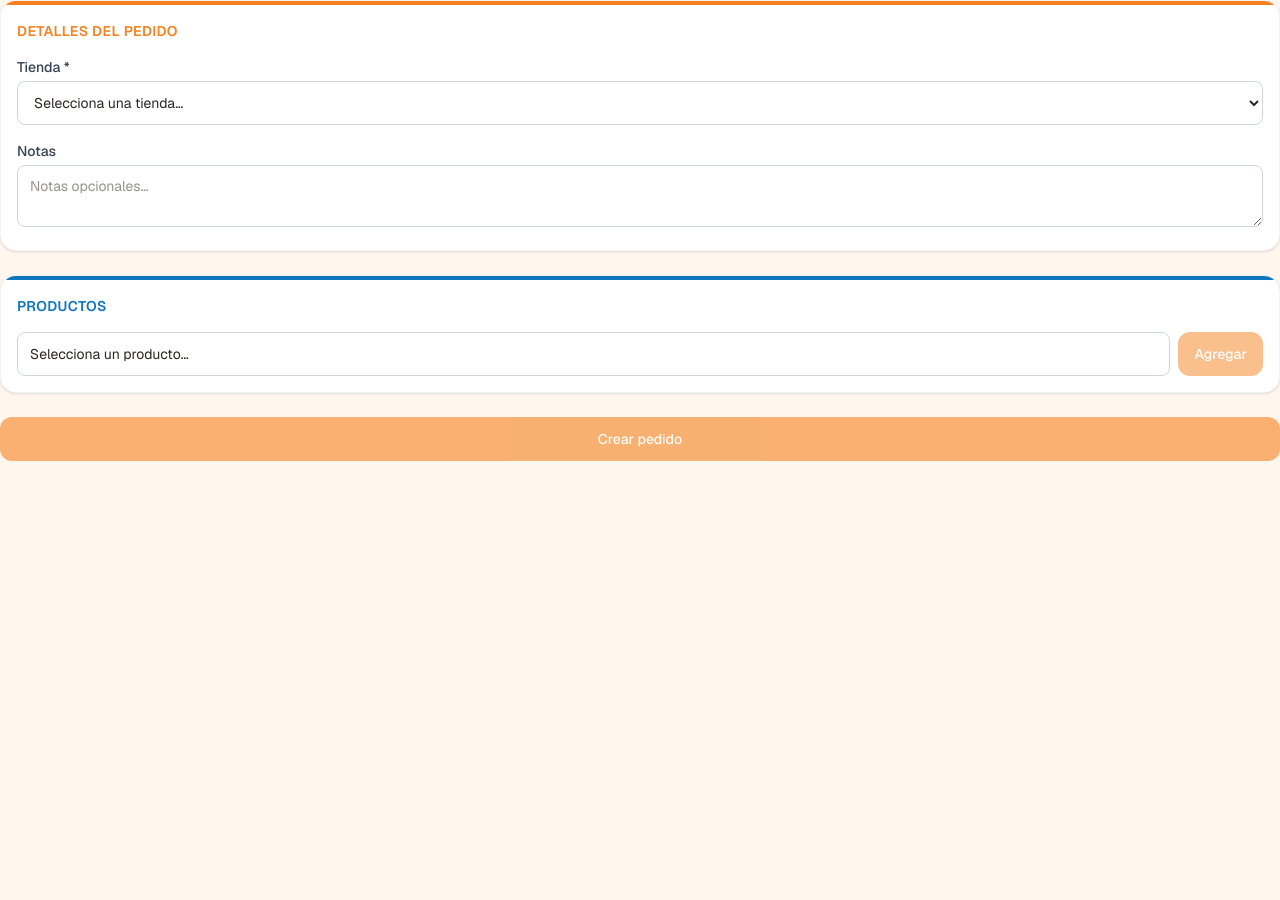
Test: OrderBuilder — add item › submit button is enabled after adding an item
The width and height of the screenshot is (1280, 900).
Click the button with aria-label "agregar producto".
click(109, 354)  # box x1=17 y1=332 x2=1170 y2=376
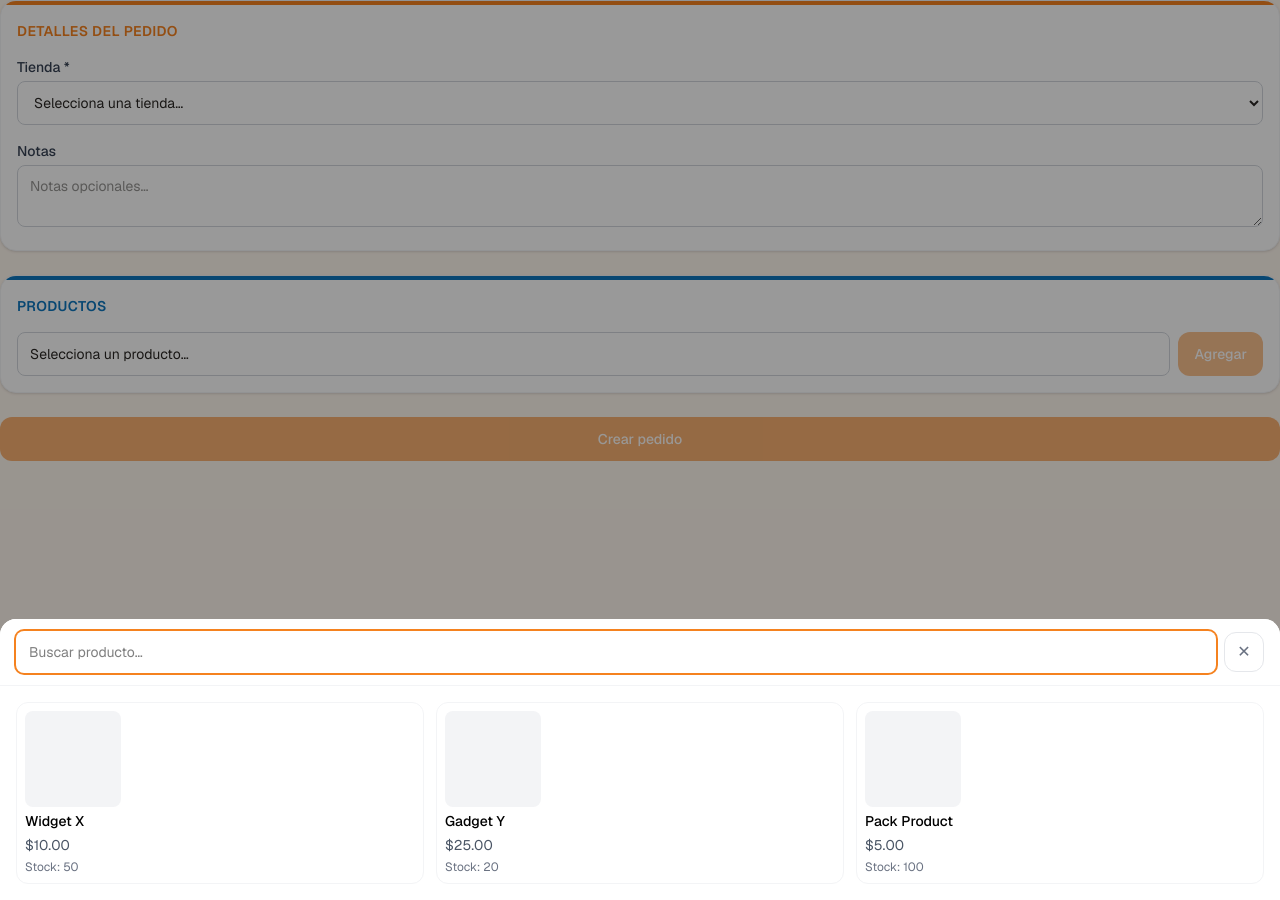
Click the button "Widget X $10.00 Stock: 50".
click(73, 759)  # box x1=16 y1=702 x2=424 y2=884
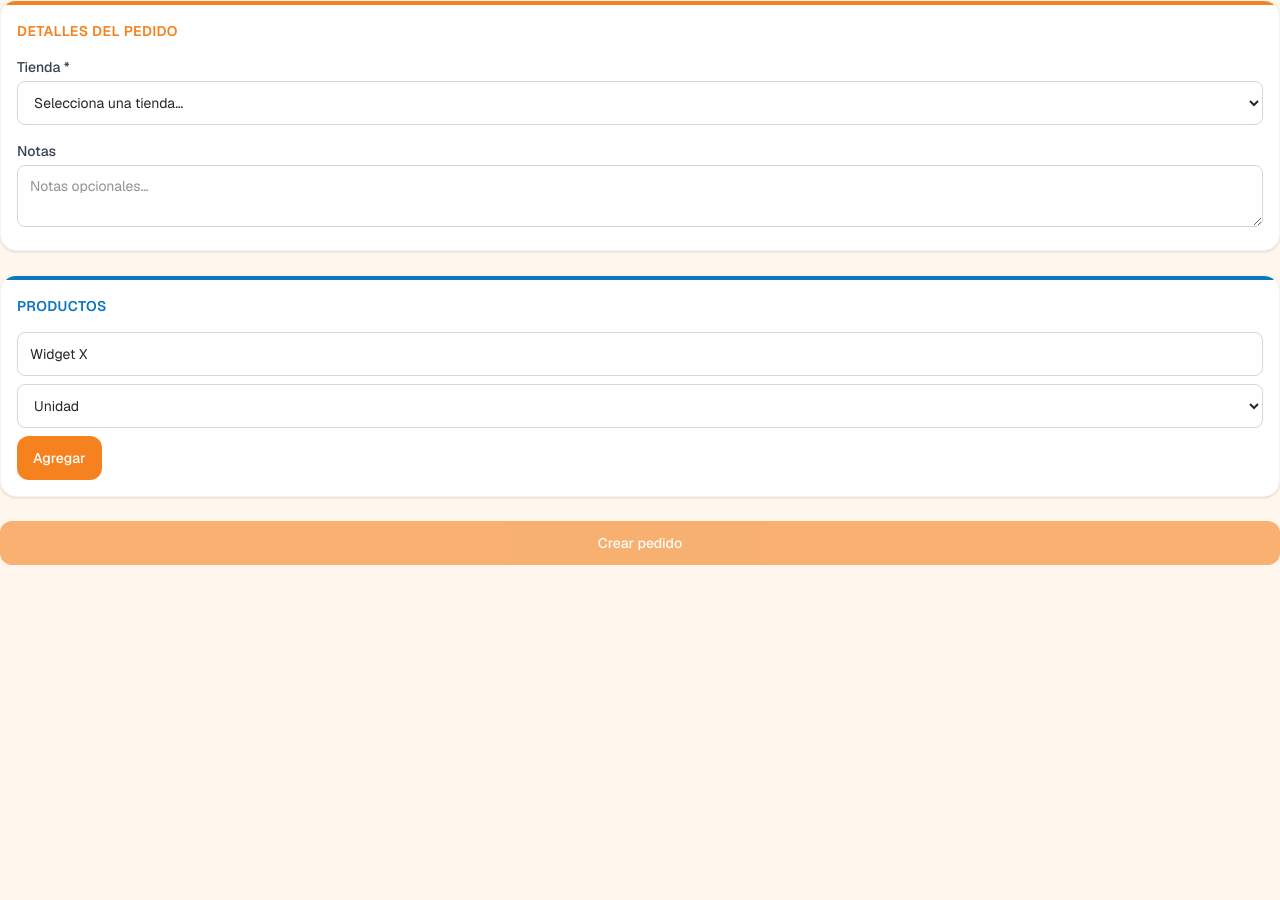
Click the button "Agregar".
click(59, 458)  # box x1=17 y1=436 x2=102 y2=480
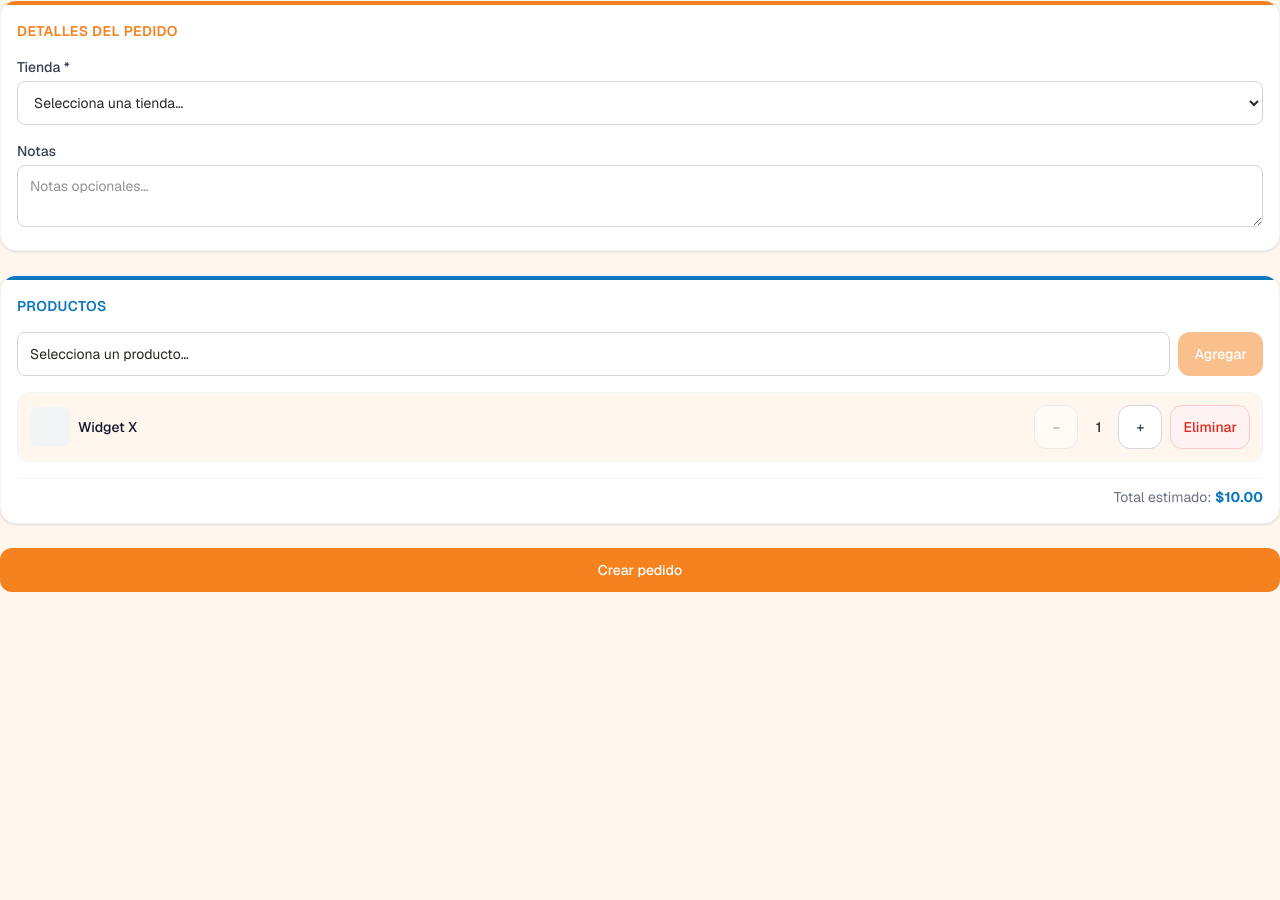
Result: the button "Crear pedido" is enabled at x1=0 y1=548 x2=1279 y2=592
